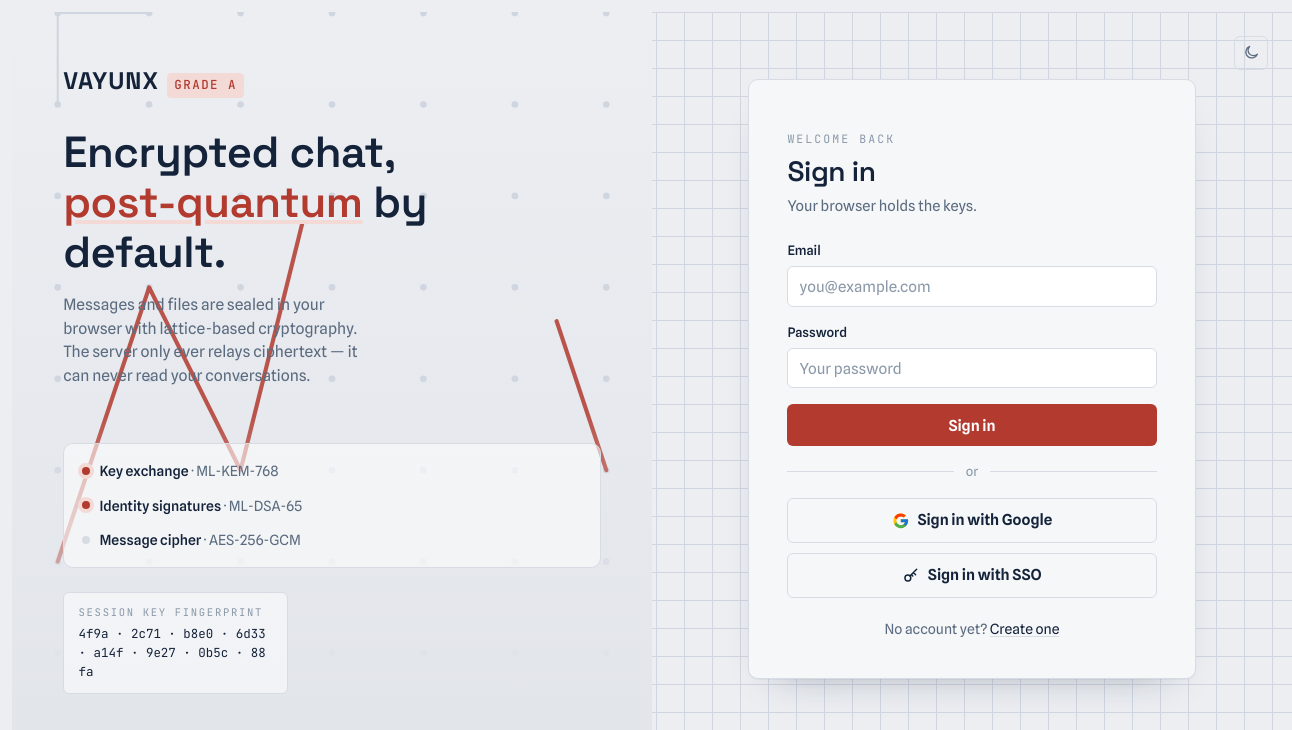
Test: Login page › keeps the code field visible and shows guidance after a wrong code
The image size is (1292, 730).
Type "carol@example.com" into the field labelled "Email" at (972, 287), box x1=787 y1=266 x2=1157 y2=307
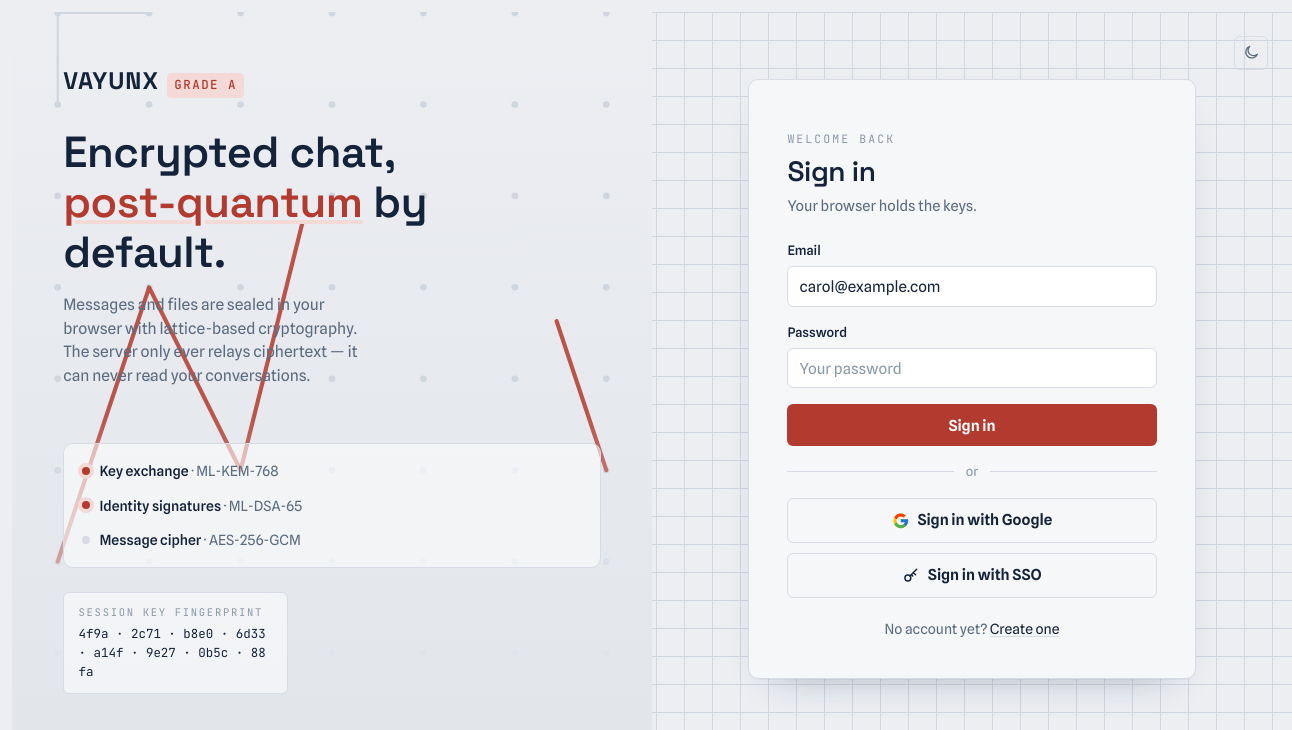
Type "Sup3rSecret!" into the password field labelled "Password" at (972, 368), box x1=787 y1=348 x2=1157 y2=388
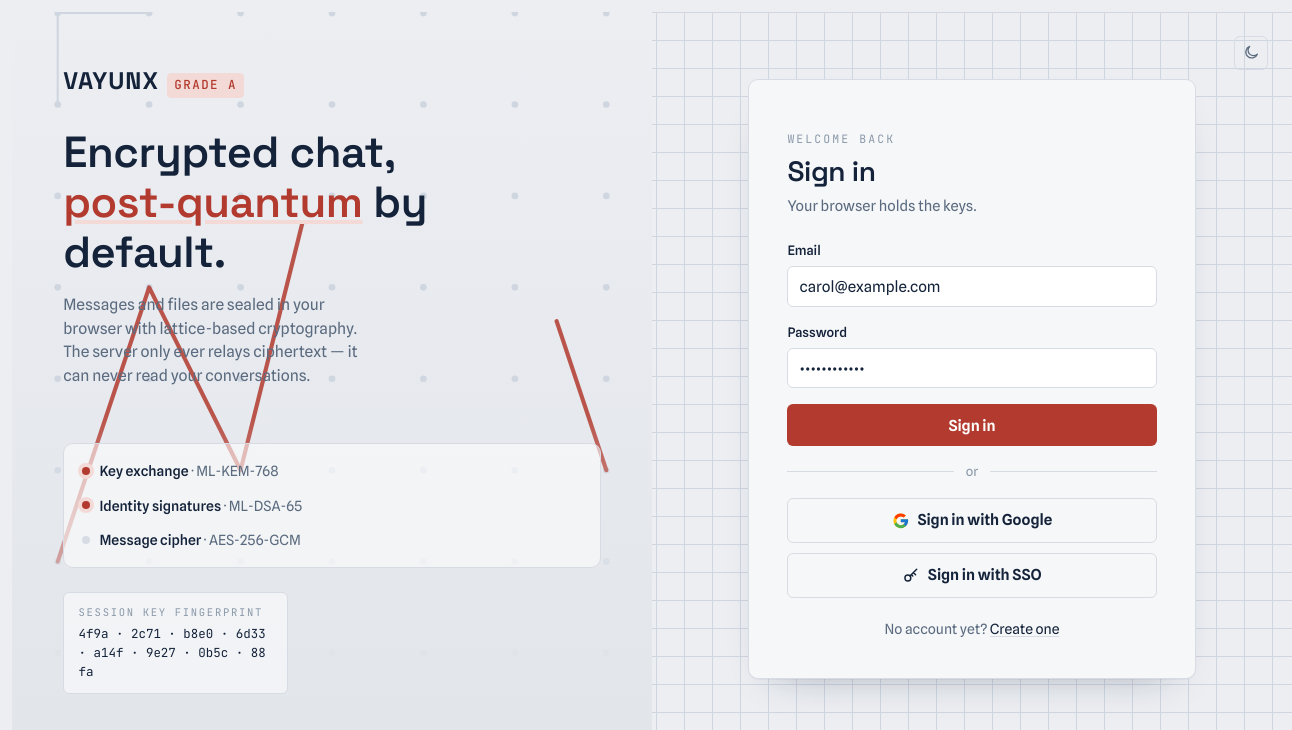
Click the button "Sign in" at (972, 425), box x1=787 y1=404 x2=1157 y2=446
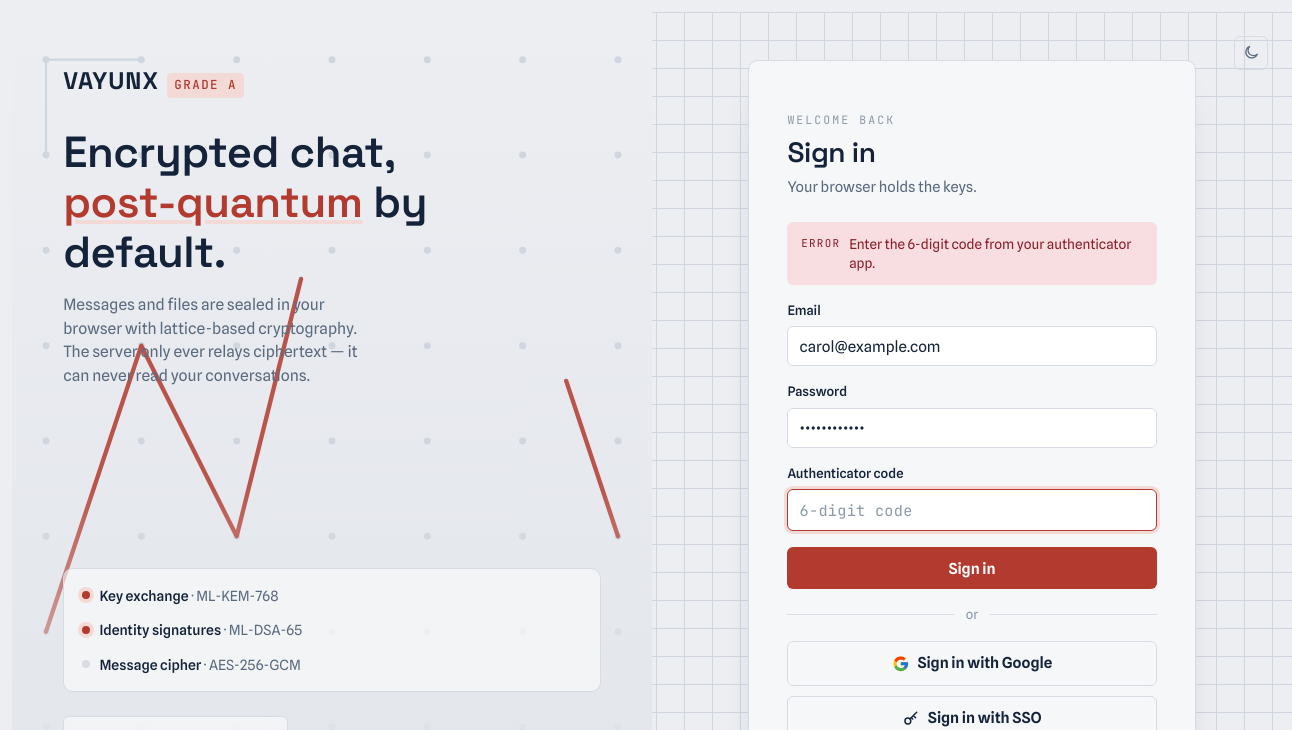
Check: the field labelled "Authenticator code" is shown
Type "000000" into the field labelled "Authenticator code" at (972, 510), box x1=787 y1=489 x2=1157 y2=531
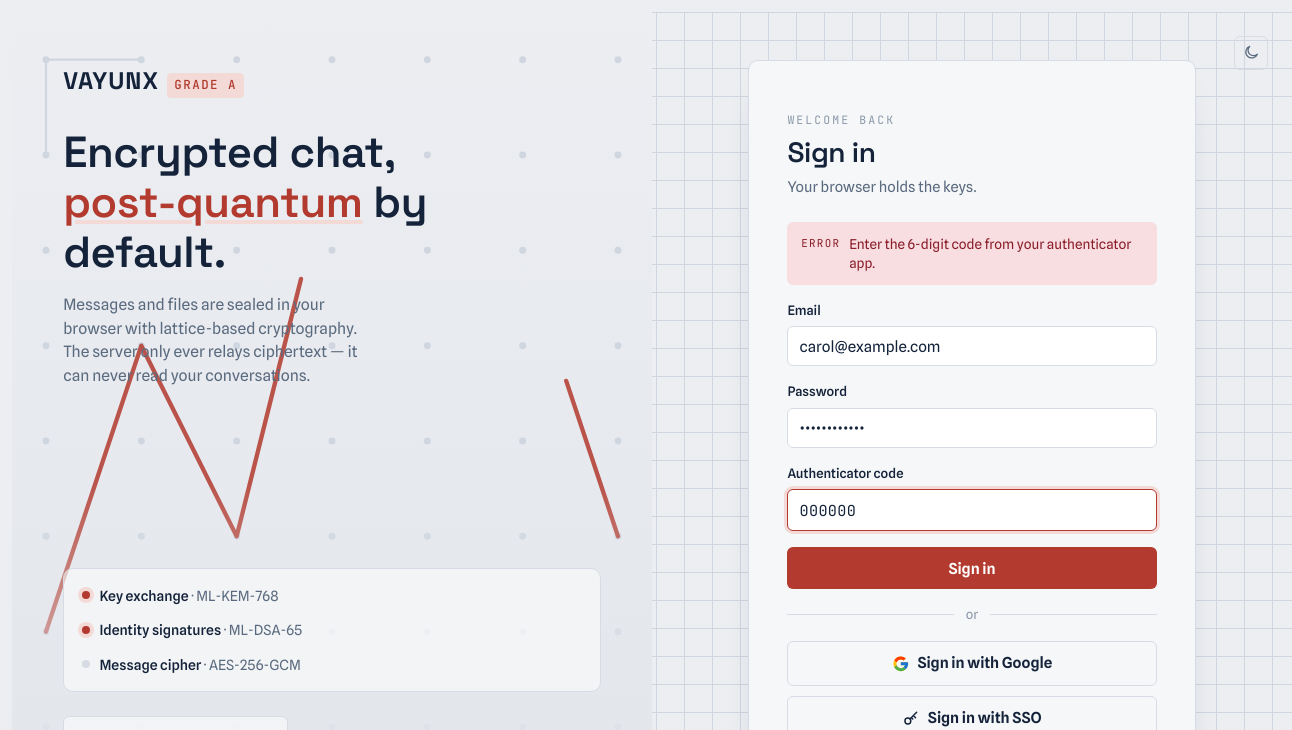
Click the button "Sign in" at (972, 568), box x1=787 y1=547 x2=1157 y2=589
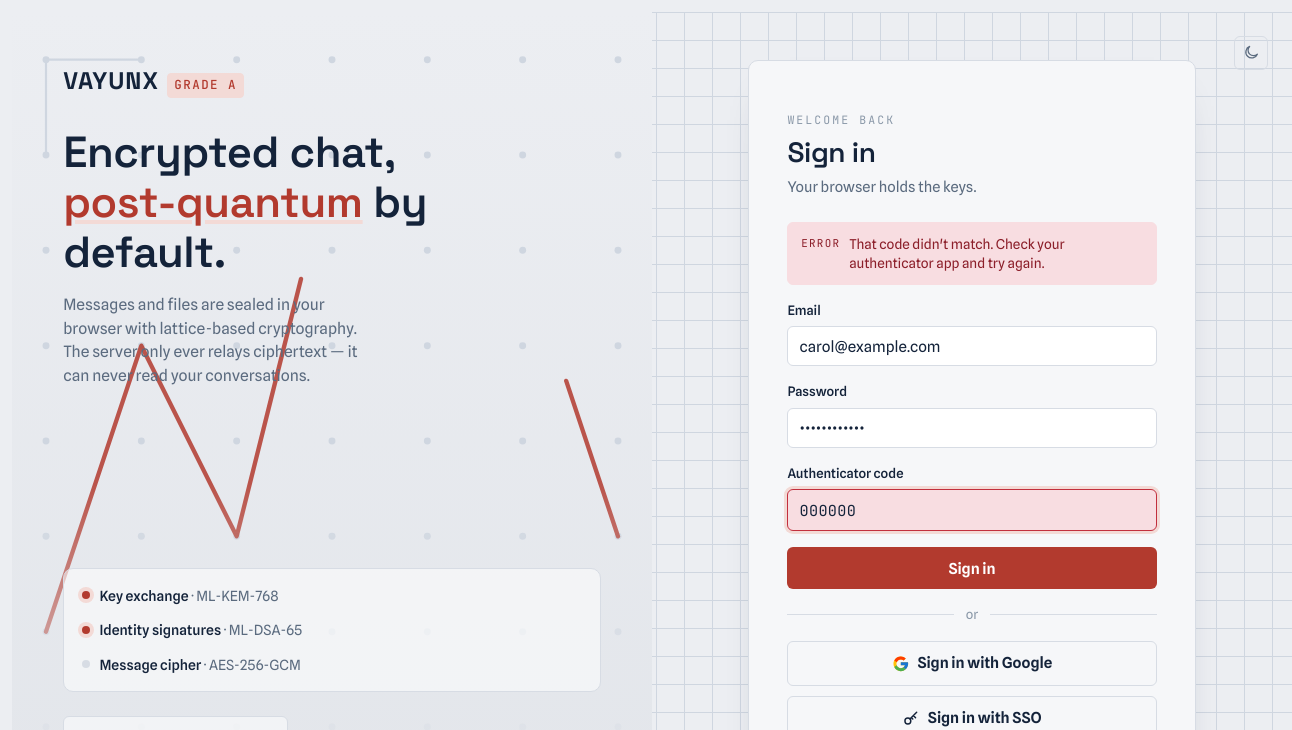
Check: the text "didn't match" is shown, box x1=849 y1=236 x2=1065 y2=271
